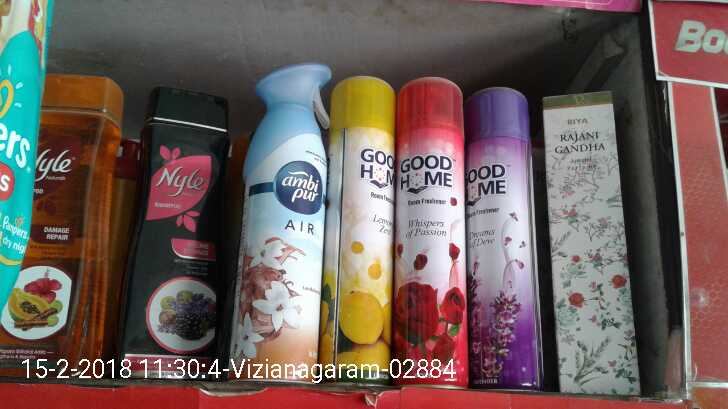ambipure: (228, 57, 338, 390)
